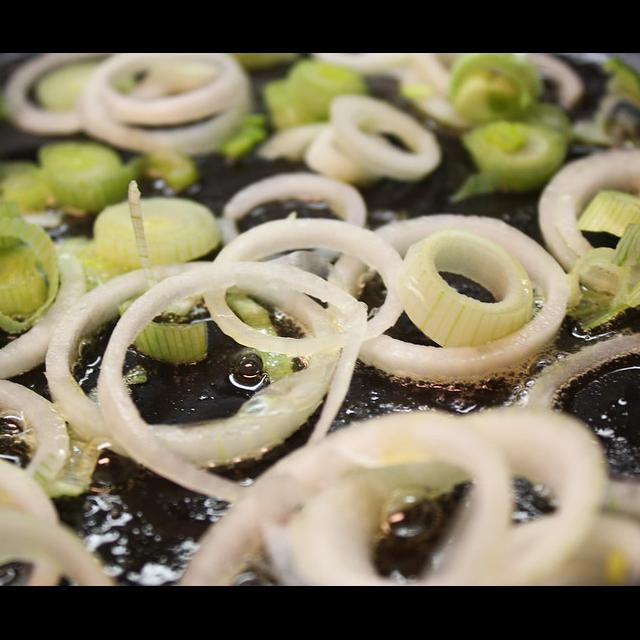green_onion: (396, 228, 534, 348), (264, 60, 368, 129), (38, 142, 134, 213), (0, 218, 58, 334), (140, 198, 220, 265), (94, 202, 140, 270), (0, 162, 52, 212), (614, 224, 640, 266)
